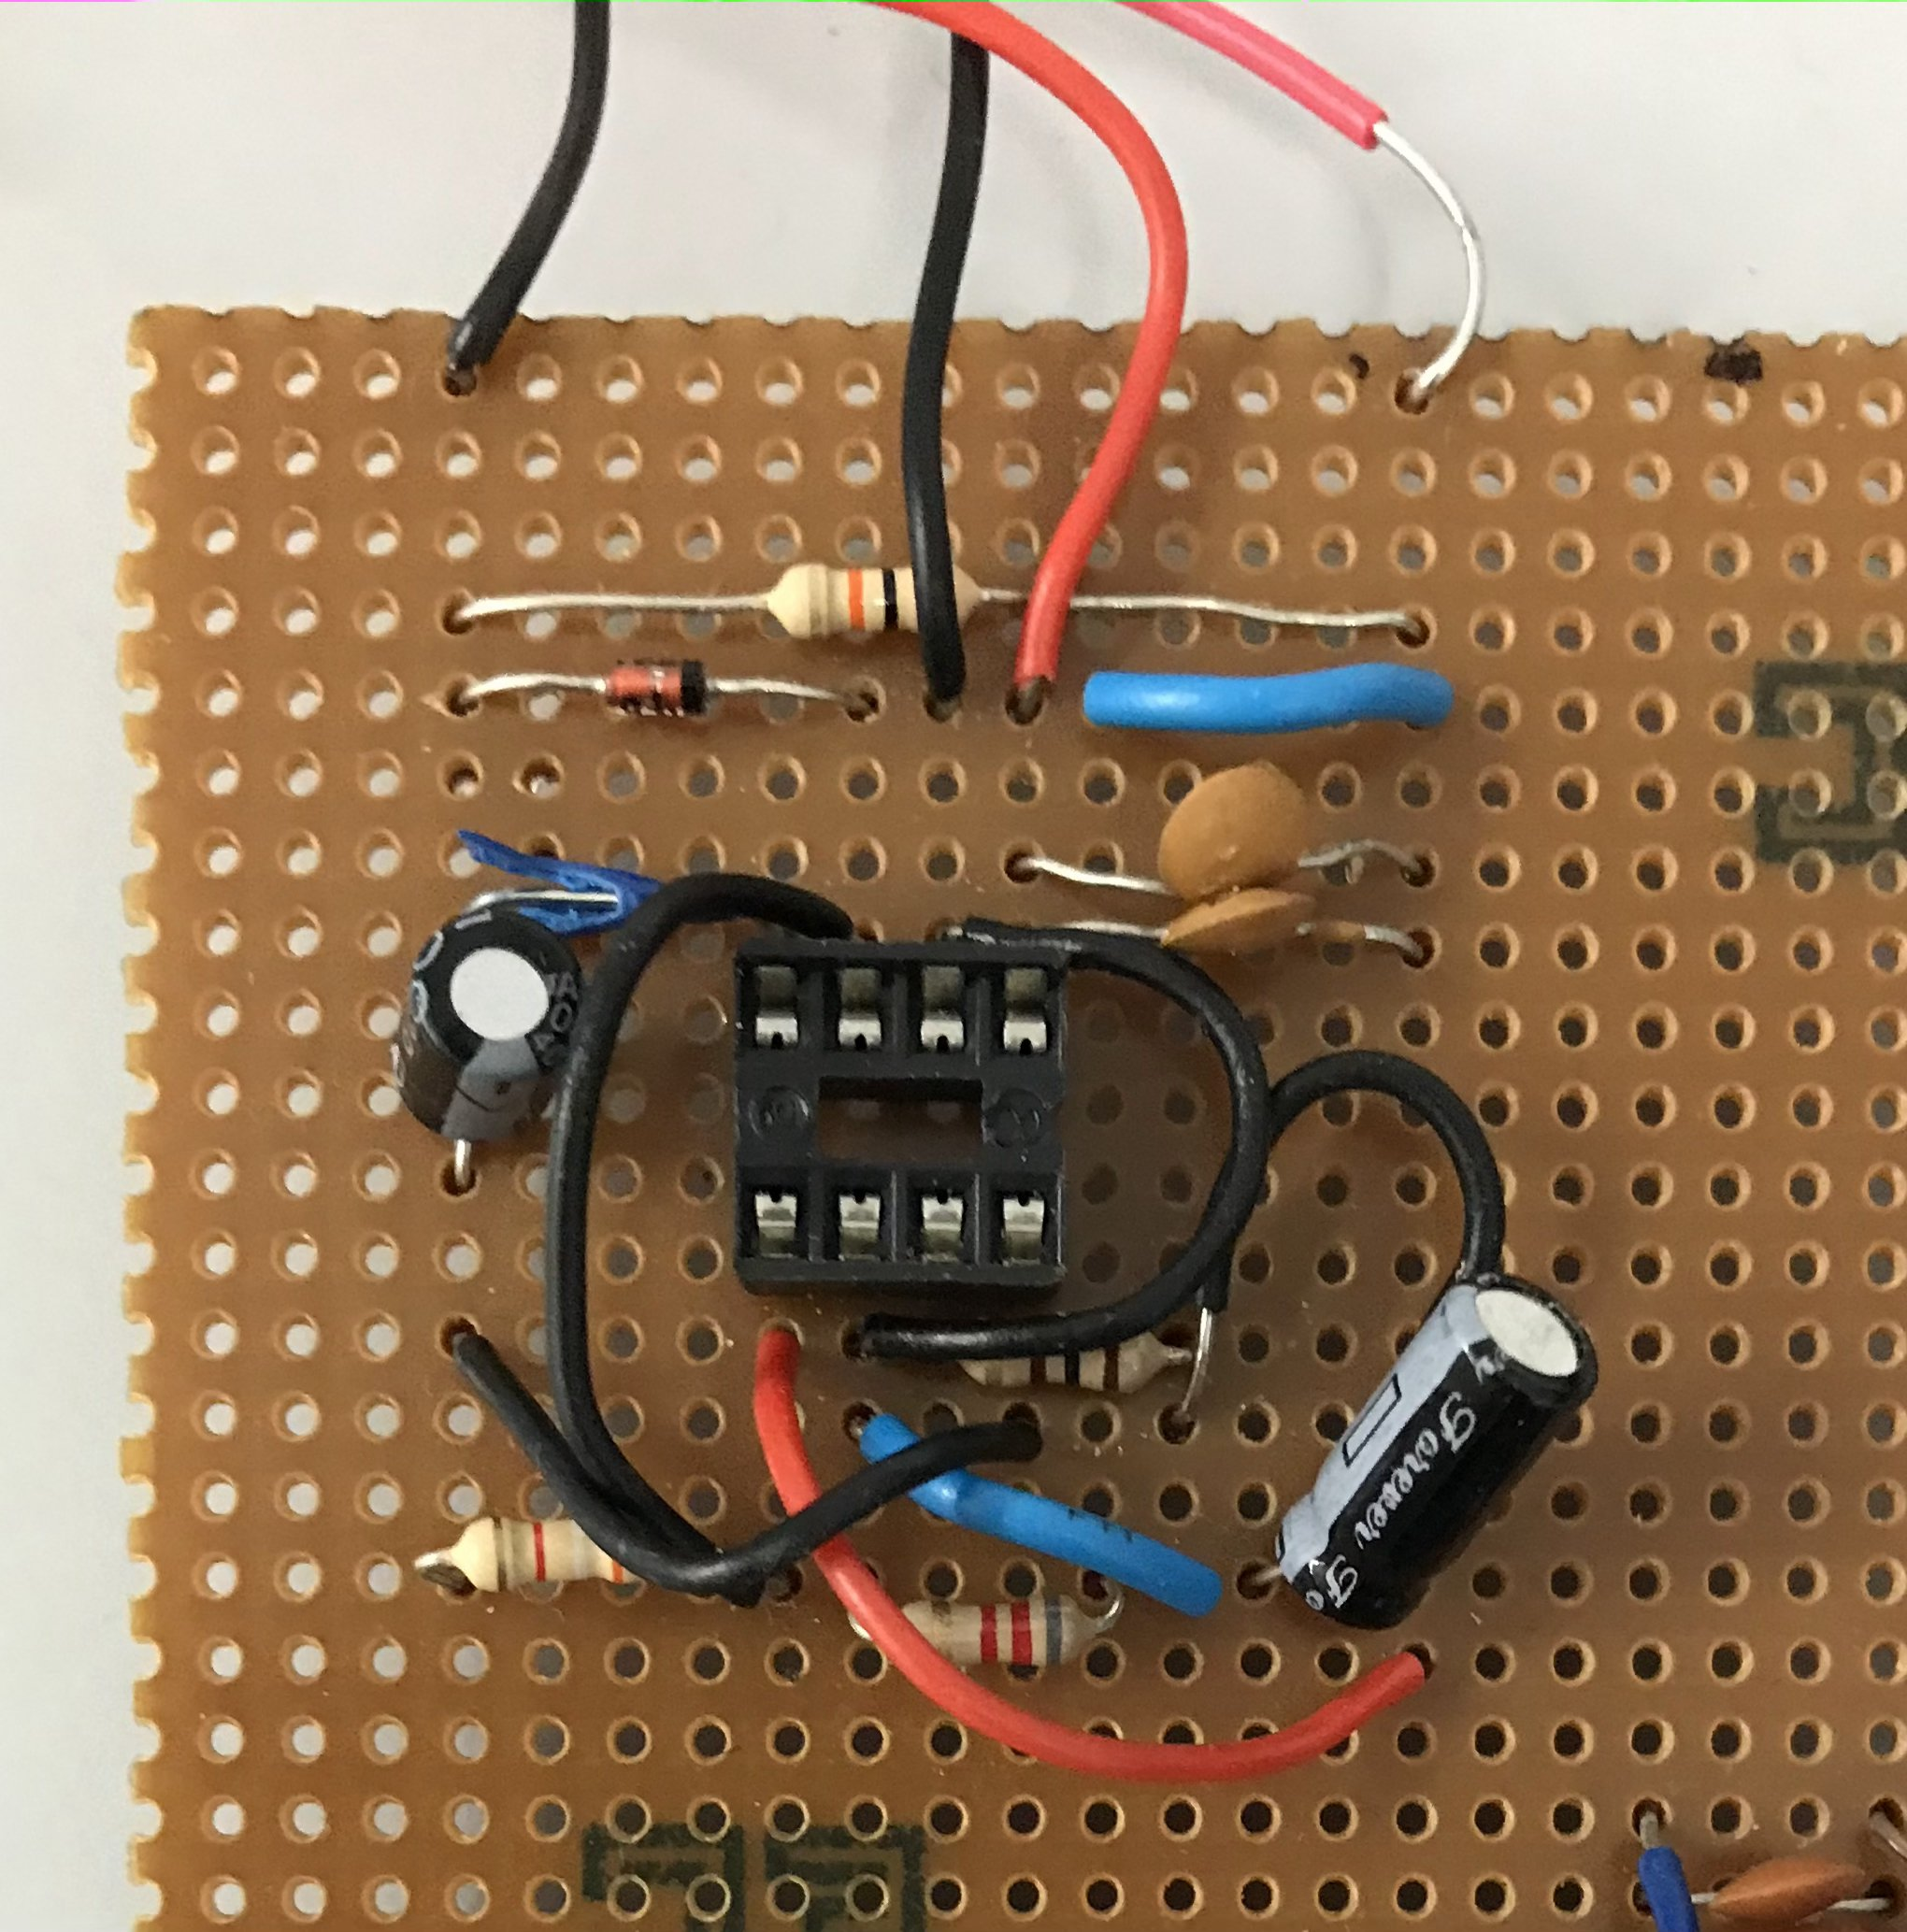Capacitor: (1257, 1270, 1612, 1632), (386, 910, 585, 1163)
Diode: (590, 650, 725, 730)
Resistor: (751, 547, 999, 648), (943, 1308, 1182, 1397), (442, 1502, 660, 1595), (868, 1595, 1107, 1672)
